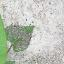Morning glory: (0, 5, 39, 64)
